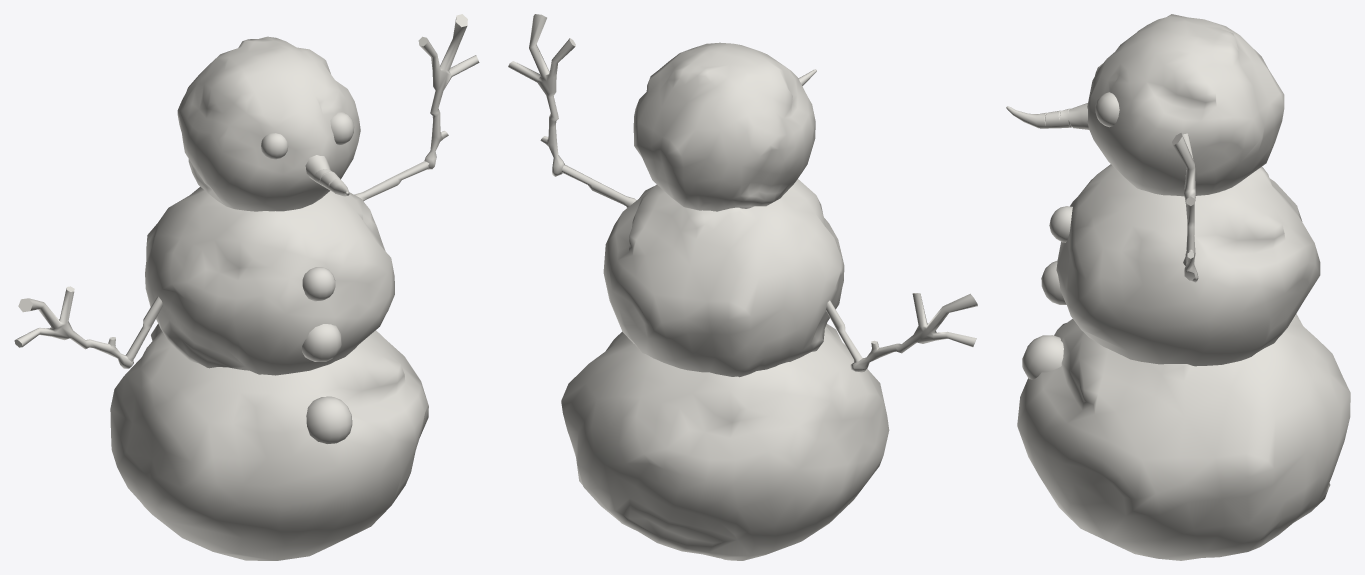
The model's file is snowman.glb.
3 views of the same model, side by side, from view 1: azimuth 30°, elevation 25°; view 2: azimuth 150°, elevation 25°; view 3: azimuth 270°, elevation 25° (orthographic). The views are drawn at different scales.
Parts seen in each view (by area): view 1: node_id44, node_id46, node_id42, node_id40, node_id34, node_id56, node_id54, node_id50, node_id52, node_id38, node_id36, node_id60 (+1 smaller); view 2: node_id44, node_id46, node_id42, node_id40, node_id34, node_id38, node_id36; view 3: node_id44, node_id46, node_id42, node_id40, node_id56, node_id50, node_id60, node_id54, node_id52.
Part boxes in pixels (x1,y1,x2,y2): node_id44: (110,324,428,560); node_id46: (145,186,394,375); node_id42: (177,36,360,211); node_id40: (418,14,479,169); node_id34: (14,286,133,368); node_id56: (306,396,352,443); node_id54: (302,324,341,361); node_id50: (305,155,349,196); node_id52: (302,267,335,301); node_id38: (354,161,429,201); node_id36: (126,296,162,361); node_id60: (330,111,354,144); node_id44: (561,324,889,560); node_id46: (603,179,844,377); node_id42: (633,42,815,211); node_id40: (508,14,575,176); node_id34: (850,293,977,372); node_id38: (561,165,636,207); node_id36: (826,300,862,362); node_id44: (1017,314,1350,560); node_id46: (1056,164,1320,366); node_id42: (1087,14,1284,196); node_id40: (1172,133,1198,282); node_id56: (1022,335,1063,379); node_id50: (1006,103,1089,129); node_id60: (1095,92,1119,127); node_id54: (1041,260,1066,304); node_id52: (1049,206,1072,242).
Size of the model in its own units: 0.4776 by 0.4813 by 0.2915.
Materials: 14 (14 with a texture image).
